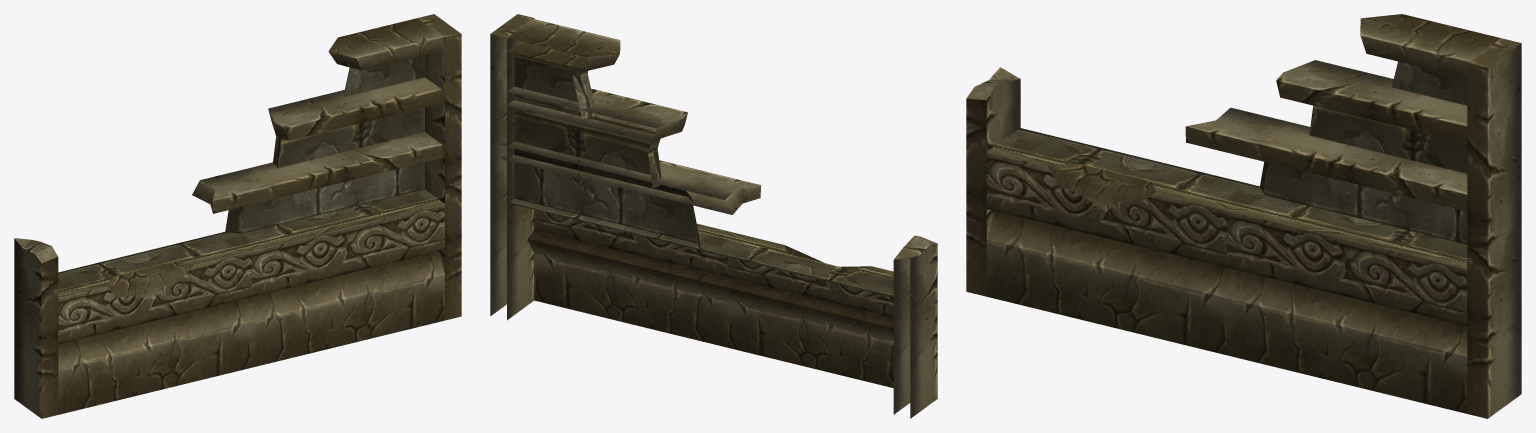
File: F_shujia006.fbx
3 renders of one model, left to right at view 1: azimuth 30°, elevation 25°; view 2: azimuth 150°, elevation 25°; view 3: azimuth 330°, elevation 25°, orthographic. The views are drawn at different scales.
Visible parts, largest first — view 1: F_shujia006; view 2: F_shujia006; view 3: F_shujia006.
Part boxes in pixels (bbox=[...]): F_shujia006: bbox=[14, 14, 461, 418]; F_shujia006: bbox=[490, 14, 937, 418]; F_shujia006: bbox=[966, 14, 1521, 418].
Size of the model in its own units: 355 by 228 by 40.09.
